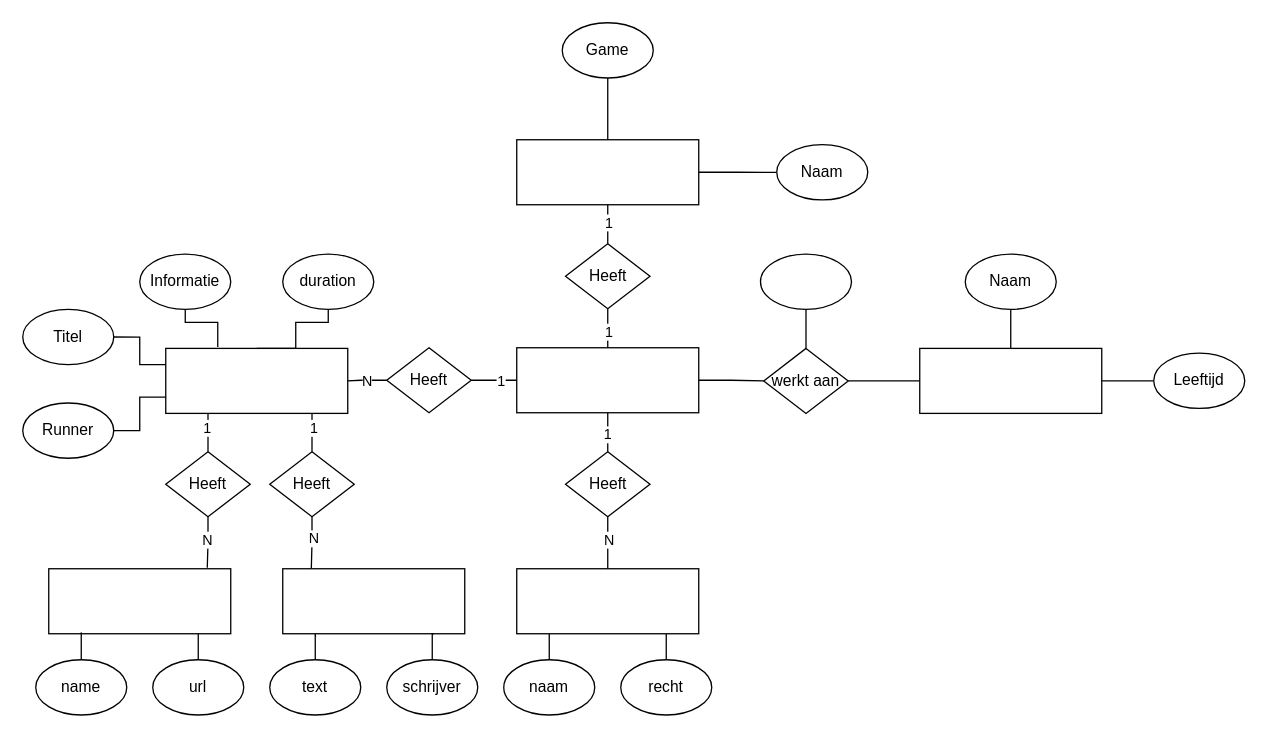
The diagram is 1268 pixels wide and 738 high, and some of its shapes have lost their labels. The shapes that lost their labels are listed below. From the top down, each one's centre as x and y in pixels, then its label:
At [607,171]: "PlatformSpeedRunner".
At [805,281]: "Functie".
At [256,380]: "Run".
At [607,379]: "Leaderboard systeem".
At [1010,380]: "Thomas".
At [139,600]: "Links".
At [373,600]: "Comments".
At [607,600]: "User".
